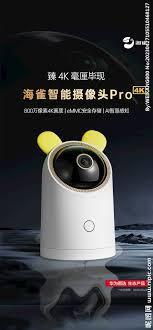maru: (33, 127, 123, 264)
